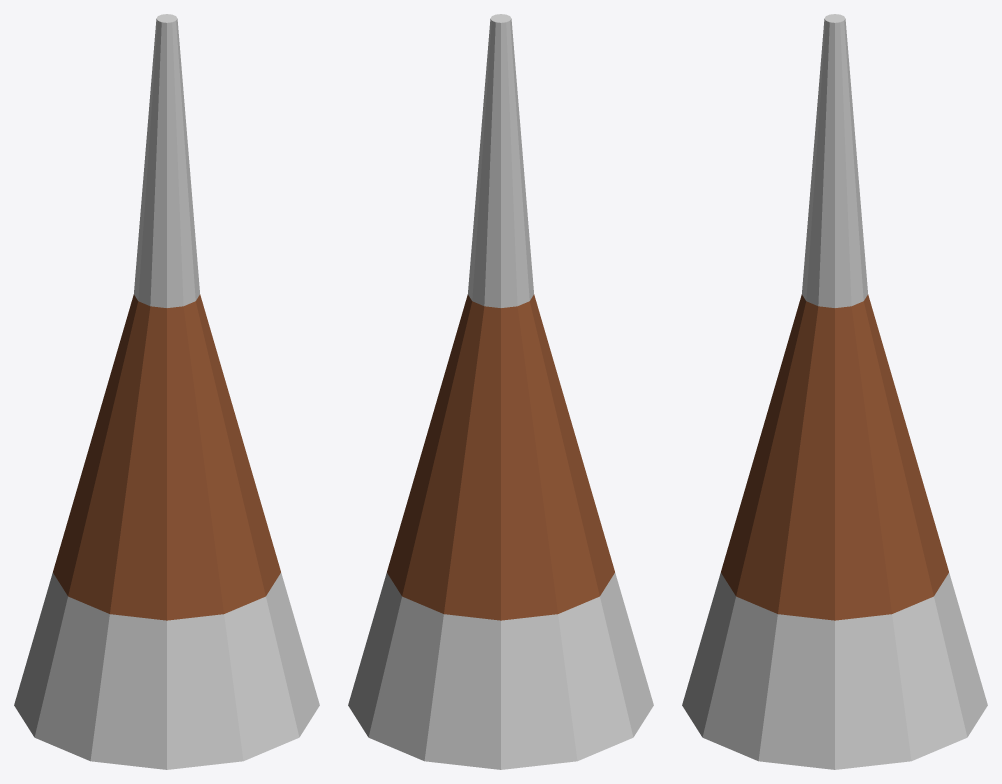
Rendered from Head06.gltf.
The picture shows the model from 3 angles, left to right: view 1: azimuth 30°, elevation 25°; view 2: azimuth 150°, elevation 25°; view 3: azimuth 270°, elevation 25°; orthographic projection.
Parts seen in each view (by area): view 1: Head06; view 2: Head06; view 3: Head06.
Boxes of the visible parts, x1,y1,x2,y2 form: Head06: (14, 14, 319, 769); Head06: (348, 14, 653, 769); Head06: (682, 14, 987, 769).
Size of the model in its own units: 0.5 by 1.24 by 0.5.
